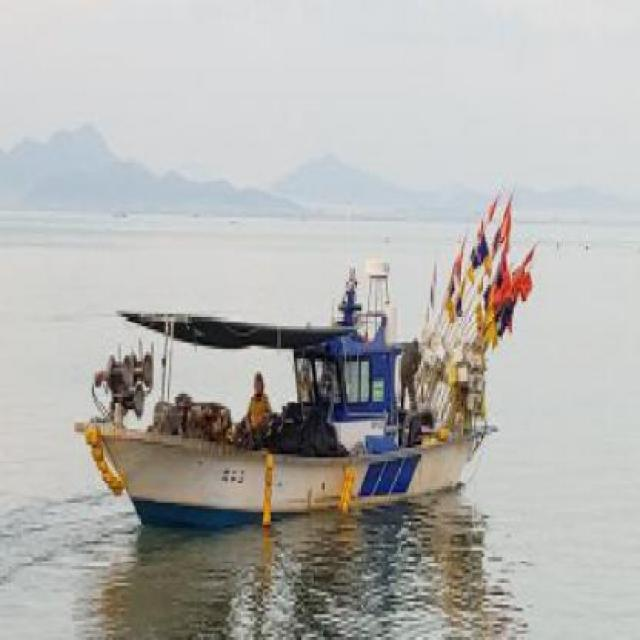Ship: (81, 206, 555, 536)
